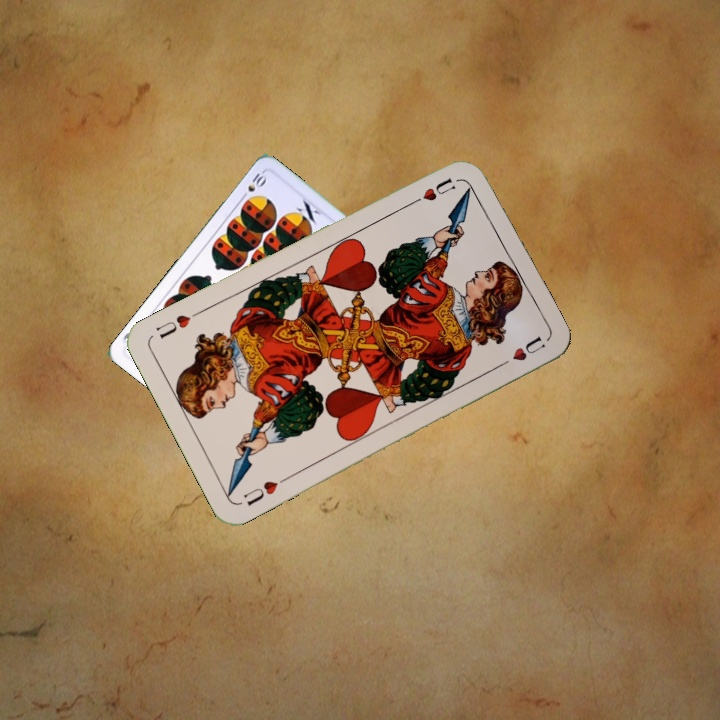HU: (239, 472, 291, 508), (418, 174, 458, 204)
S10: (237, 168, 269, 202)
